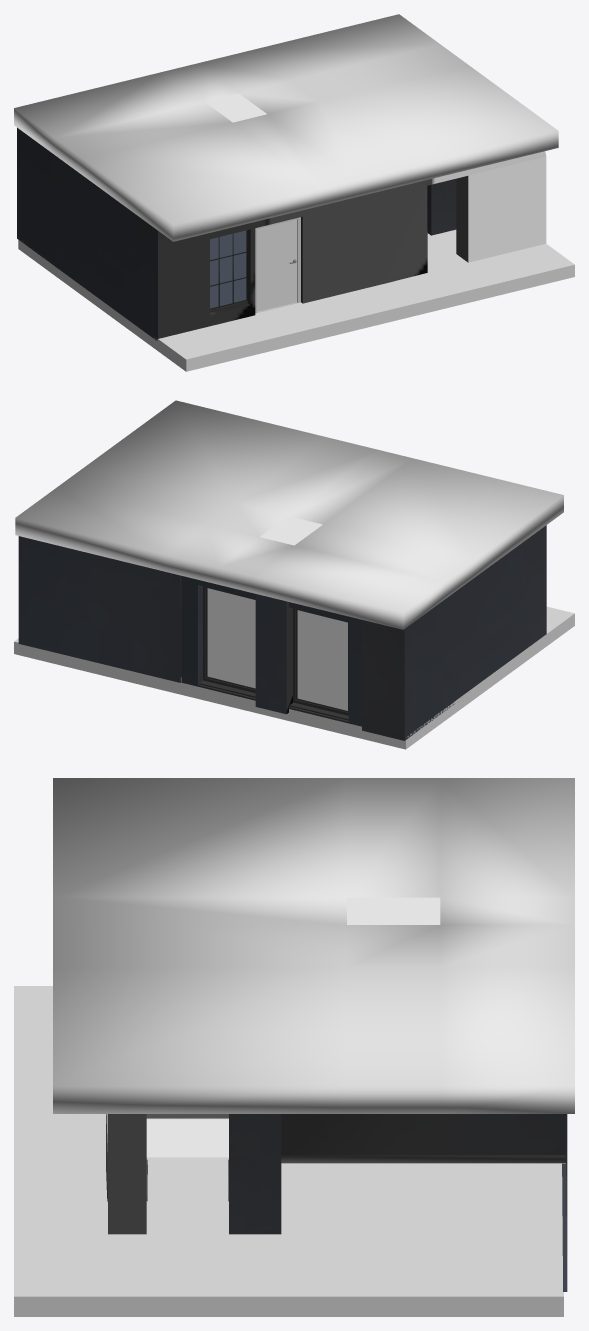
The model's file is 01_Lightbake2.fbx.
3 renders of one model, top to bottom at view 1: azimuth 30°, elevation 25°; view 2: azimuth 150°, elevation 25°; view 3: azimuth 270°, elevation 25°, orthographic. The views are drawn at different scales.
Visible parts, largest first — view 1: SM_ceiling_0, SM_wall_0, SM_floor_exterior_0, SM_floor_trim.001_0, SM_door_1, SM_windows_glass.001_0, SM_floor_trim_0, SM_ceiling_cover_0, SM_window_frames_001_0, SM_door_frame_0; view 2: SM_ceiling_0, SM_wall_0, SM_windows_glass_0, SM_floor_trim.001_0, SM_window_frames_0, SM_ceiling_cover_0; view 3: SM_ceiling_0, SM_floor_trim_0, SM_wall_0, SM_floor_exterior_0, SM_floor_trim.001_0, SM_wall_1, SM_ceiling_cover_0.
Boxes of the visible parts, x1,y1,x2,y2 form: SM_ceiling_0: [14, 14, 558, 241]; SM_wall_0: [17, 127, 546, 340]; SM_floor_exterior_0: [158, 243, 574, 359]; SM_floor_trim.001_0: [18, 240, 574, 371]; SM_door_1: [257, 219, 296, 311]; SM_windows_glass.001_0: [210, 230, 246, 308]; SM_floor_trim_0: [427, 229, 466, 270]; SM_ceiling_cover_0: [204, 93, 266, 122]; SM_window_frames_001_0: [210, 230, 247, 312]; SM_door_frame_0: [255, 217, 300, 313]; SM_ceiling_0: [15, 400, 563, 629]; SM_wall_0: [18, 525, 546, 740]; SM_windows_glass_0: [207, 588, 347, 710]; SM_floor_trim.001_0: [14, 613, 574, 749]; SM_window_frames_0: [199, 586, 348, 720]; SM_ceiling_cover_0: [260, 516, 322, 545]; SM_ceiling_0: [53, 778, 574, 1113]; SM_floor_trim_0: [113, 1157, 563, 1296]; SM_wall_0: [106, 1114, 567, 1291]; SM_floor_exterior_0: [14, 986, 113, 1296]; SM_floor_trim.001_0: [14, 1296, 563, 1316]; SM_wall_1: [146, 1155, 566, 1201]; SM_ceiling_cover_0: [347, 897, 440, 924].
Bounding box in the file's own units: 999 × 336 × 752.
57 materials, 19 textured.
